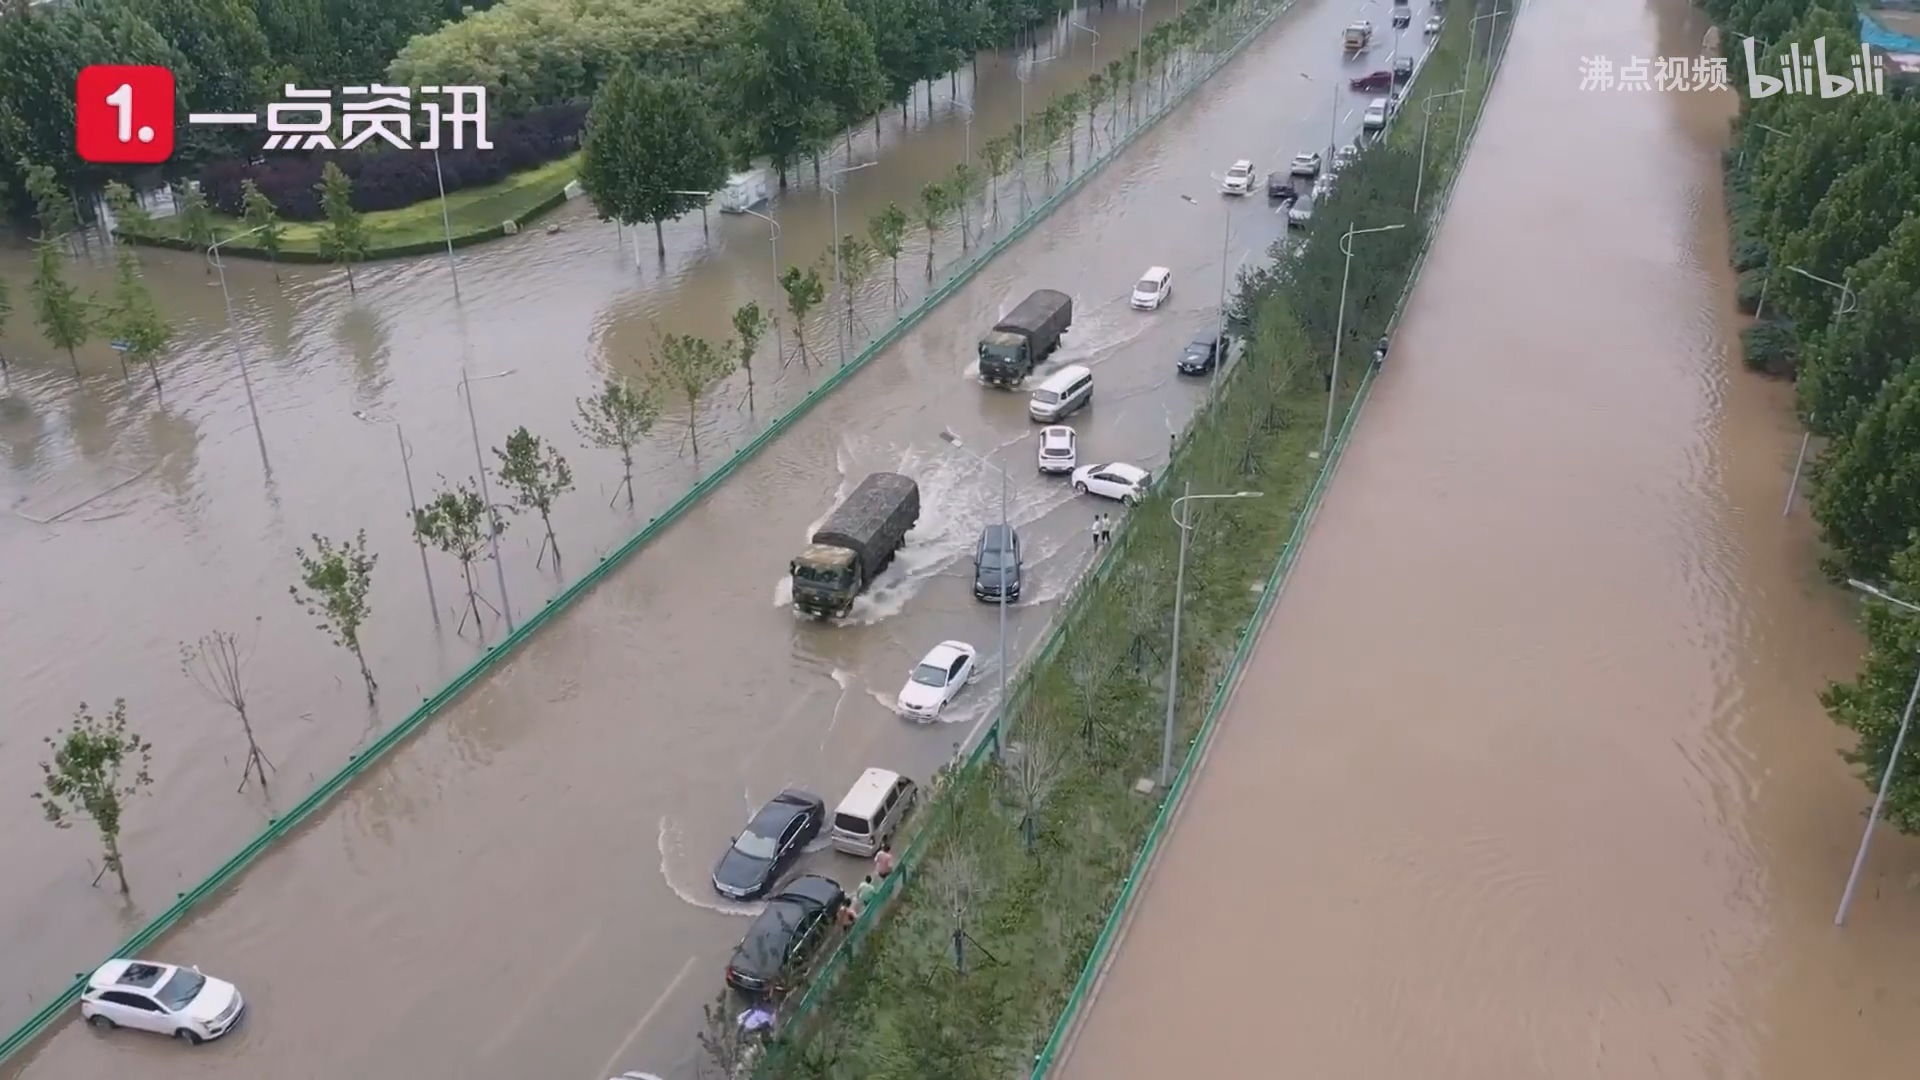puddle: (21, 218, 922, 1080), (1276, 282, 1898, 1080)
